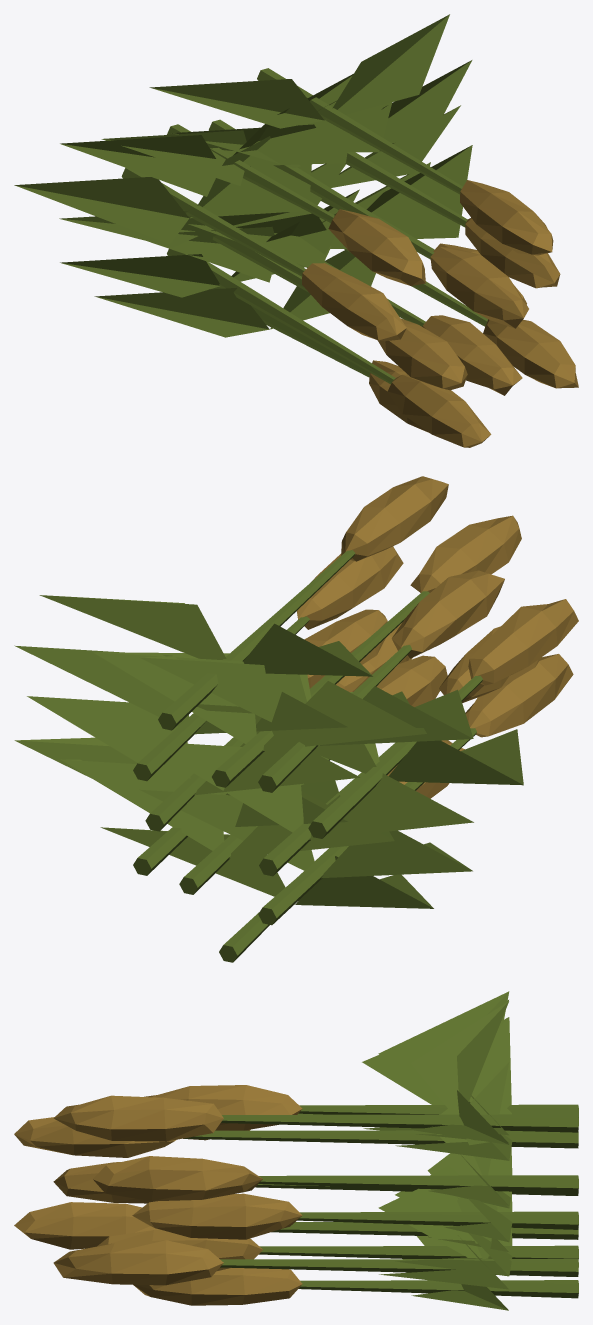
File: TP_DBA_PCG_AgriCrop.obj
3 views of the same model, one above another, from view 1: azimuth 30°, elevation 25°; view 2: azimuth 150°, elevation 25°; view 3: azimuth 270°, elevation 25° (orthographic). The views are drawn at different scales.
Parts seen in each view (by area): view 1: TP_DBA_PCG_AgriCrop; view 2: TP_DBA_PCG_AgriCrop; view 3: TP_DBA_PCG_AgriCrop.
Boxes of the visible parts, box(x1,y1,x2,y2) form: TP_DBA_PCG_AgriCrop: box(14, 14, 578, 447); TP_DBA_PCG_AgriCrop: box(14, 476, 578, 962); TP_DBA_PCG_AgriCrop: box(14, 991, 578, 1310).
Bounding box in the file's own units: 158 × 84 × 172.
